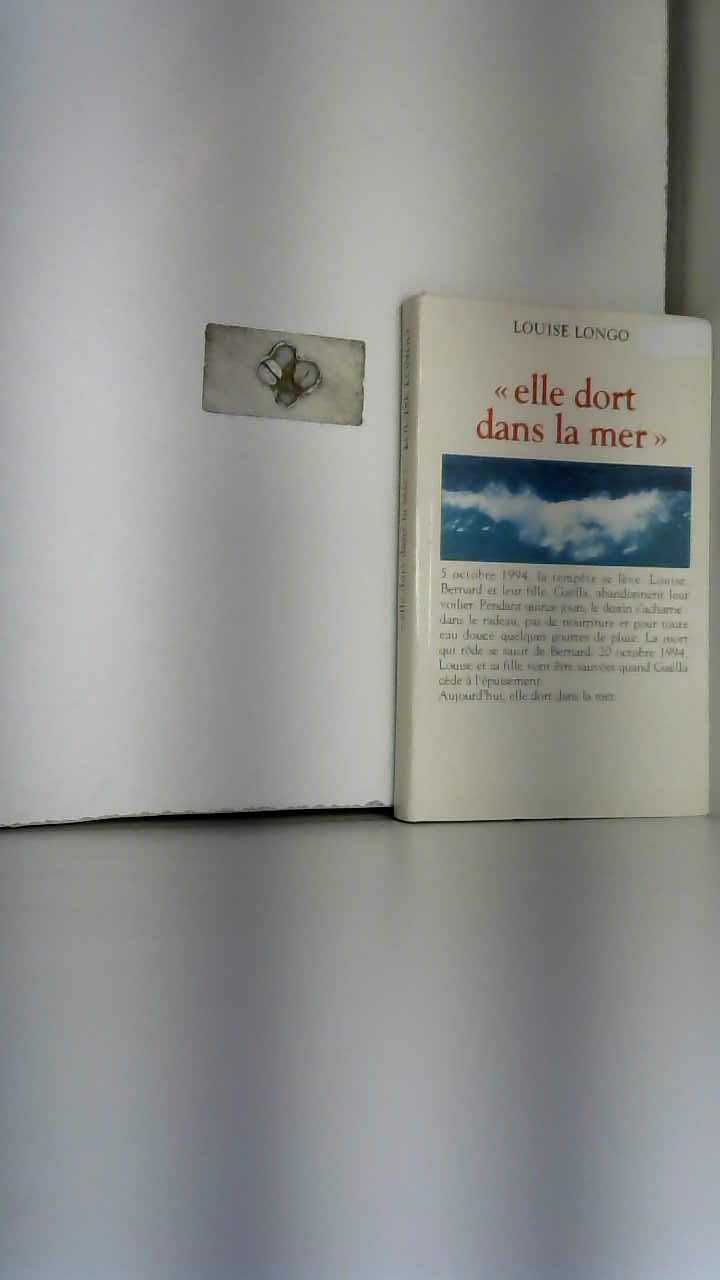book: (363, 262, 720, 865)
